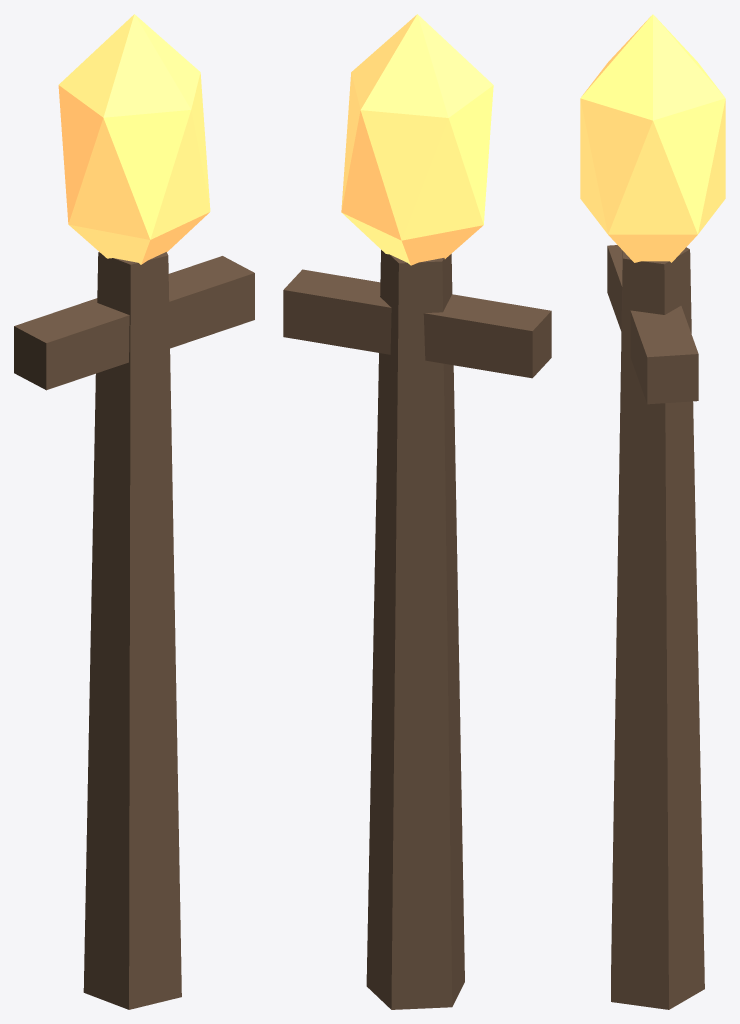
File: df_torch_a.glb
The picture shows the model from 3 angles, left to right: view 1: azimuth 30°, elevation 25°; view 2: azimuth 150°, elevation 25°; view 3: azimuth 270°, elevation 25°; orthographic projection.
Visible parts, largest first — view 1: torch_post, dim_flame, torch_crossbar; view 2: torch_post, dim_flame, torch_crossbar; view 3: torch_post, dim_flame, torch_crossbar.
Boxes of the visible parts, x1,y1,x2,y2 form: torch_post: (83, 252, 181, 1009); dim_flame: (58, 14, 210, 264); torch_crossbar: (14, 256, 254, 390); torch_post: (366, 250, 464, 1009); dim_flame: (341, 14, 493, 265); torch_crossbar: (283, 269, 551, 378); torch_post: (611, 247, 704, 1009); dim_flame: (580, 14, 725, 262); torch_crossbar: (607, 245, 698, 404).
Size of the model in its own units: 0.3664 by 1.45 by 0.196.
